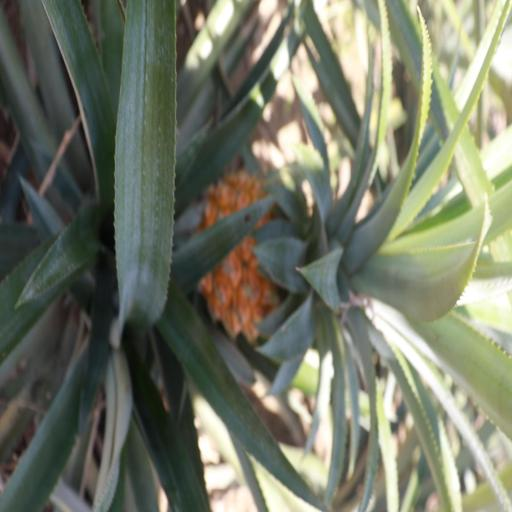Pineapple - v8 v1: (199, 166, 475, 341)
